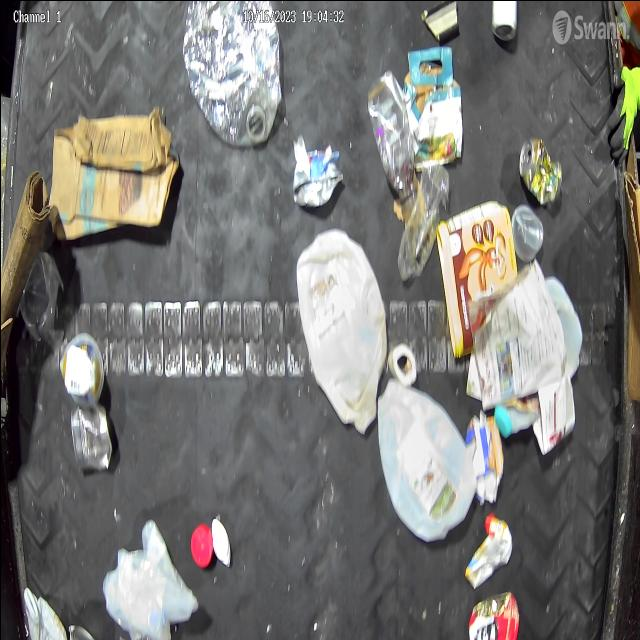can: (291, 144, 343, 209), (518, 136, 562, 206), (70, 402, 112, 472), (468, 590, 519, 640), (67, 622, 95, 640)
milk_jug: (294, 226, 386, 434), (376, 378, 478, 542), (493, 274, 583, 437)
non_white_jug: (434, 200, 516, 358)
plastic_bottle: (183, 0, 280, 146), (396, 161, 449, 281)
